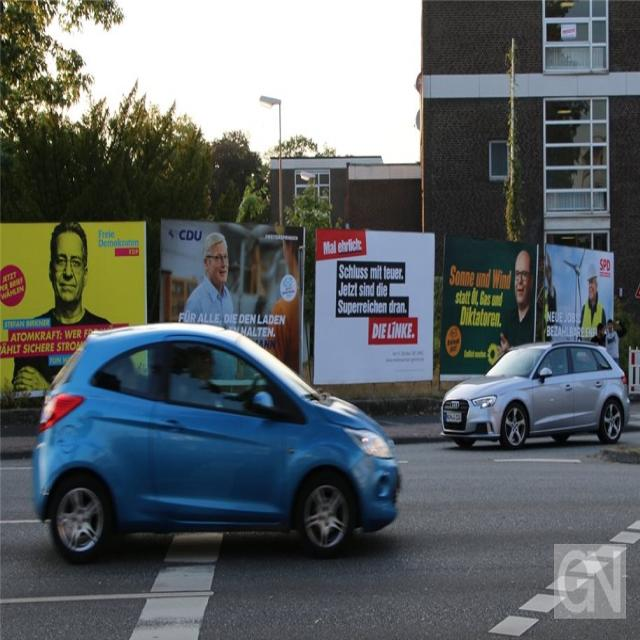Werbetafel frei: (0, 219, 149, 414), (158, 220, 308, 379), (310, 228, 438, 384), (439, 233, 542, 383), (542, 239, 616, 342)
